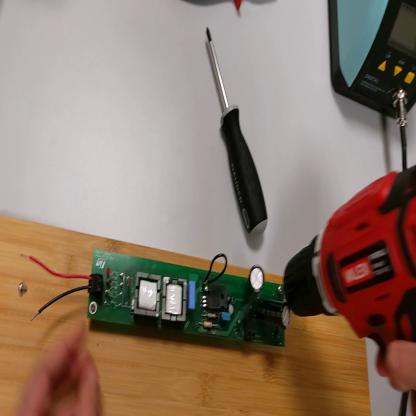electric screwdriver: (280, 159, 416, 416)
hand: (19, 320, 104, 413), (376, 337, 416, 397)
high voltage board: (19, 250, 288, 350)
screwdriver-: (206, 28, 271, 243)
welder station: (328, 3, 415, 123)
working area: (2, 218, 370, 416)
